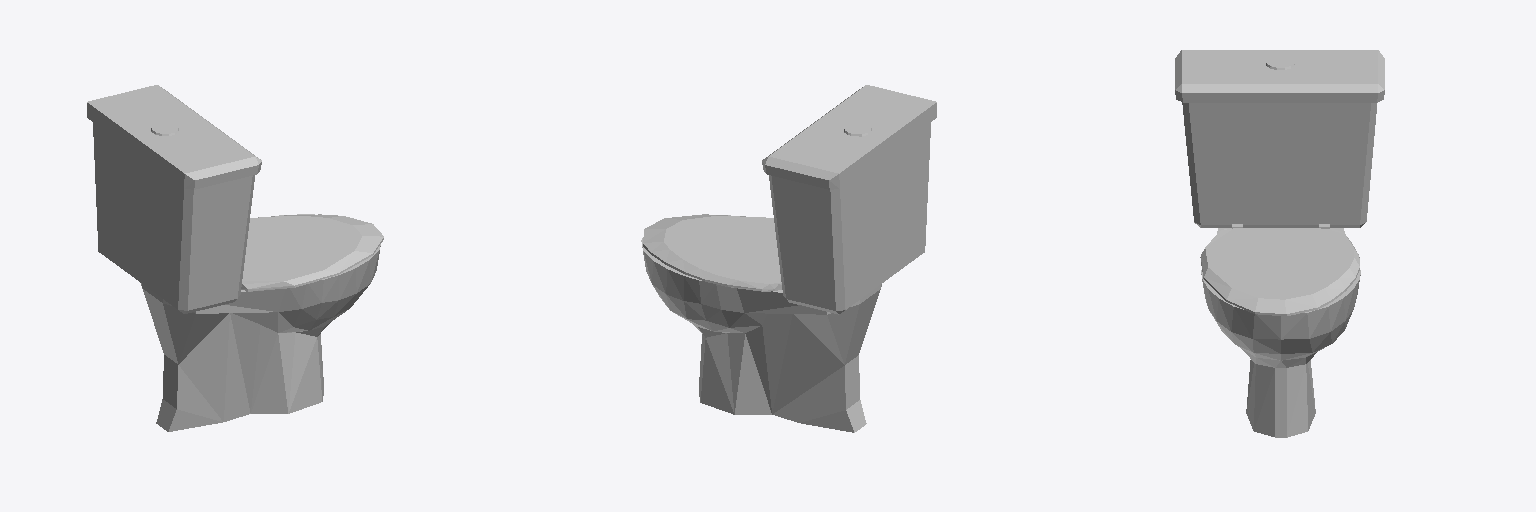
Rendered from Toilet03.obj.
The picture shows the model from 3 angles: view 1: azimuth 30°, elevation 25°; view 2: azimuth 150°, elevation 25°; view 3: azimuth 270°, elevation 25°; orthographic projection.
Parts seen in each view (by area): view 1: Toilet03_LOD0.001_toilet_modern.003; view 2: Toilet03_LOD0.001_toilet_modern.003; view 3: Toilet03_LOD0.001_toilet_modern.003.
Part boxes in pixels (x1,y1,x2,y2): Toilet03_LOD0.001_toilet_modern.003: (87,85,383,431); Toilet03_LOD0.001_toilet_modern.003: (641,85,936,432); Toilet03_LOD0.001_toilet_modern.003: (1175,50,1384,437).
Size of the model in its own units: 0.7588 by 0.901 by 0.5741.